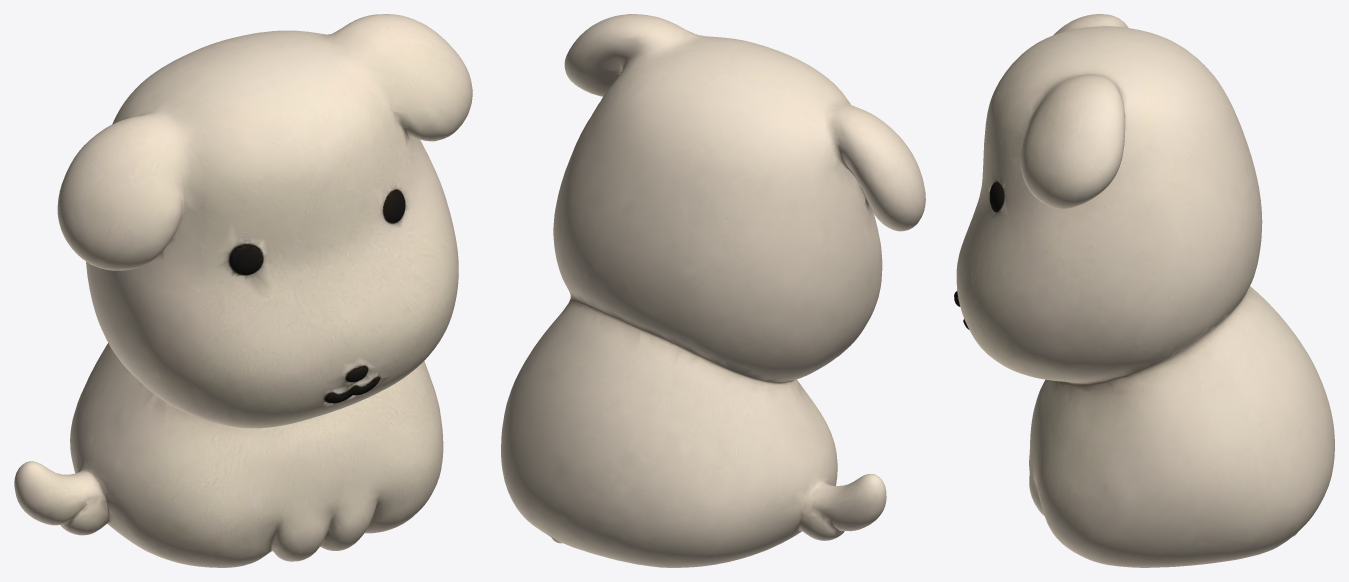
Rendered from ganadi.glb.
3 renders of one model, left to right at view 1: azimuth 30°, elevation 25°; view 2: azimuth 150°, elevation 25°; view 3: azimuth 270°, elevation 25°, orthographic. The views are drawn at different scales.
Bounding box in the file's own units: 1.58 × 1.9 × 1.4.
1 material, 1 textured.
